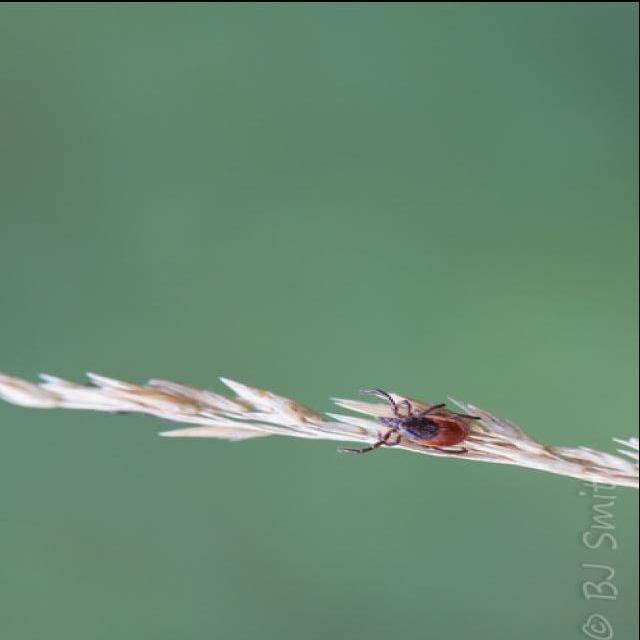Ixodes Ricinus-F: (329, 387, 482, 456)
